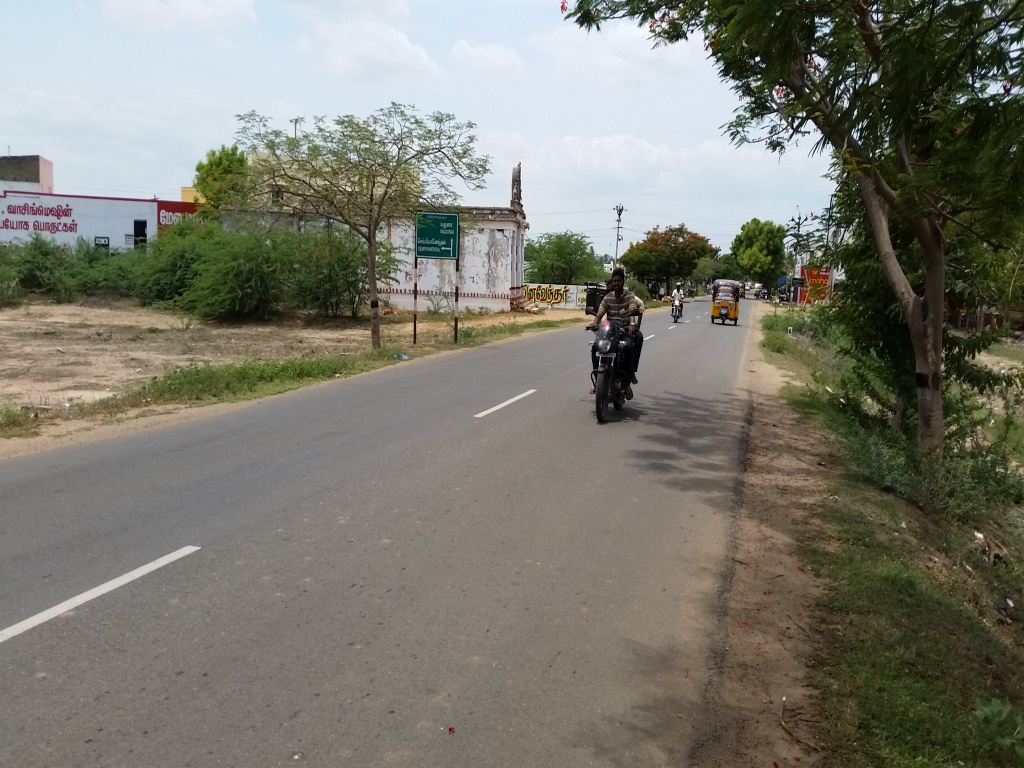biker: (568, 242, 662, 438)
nohelmet: (605, 260, 635, 307)
